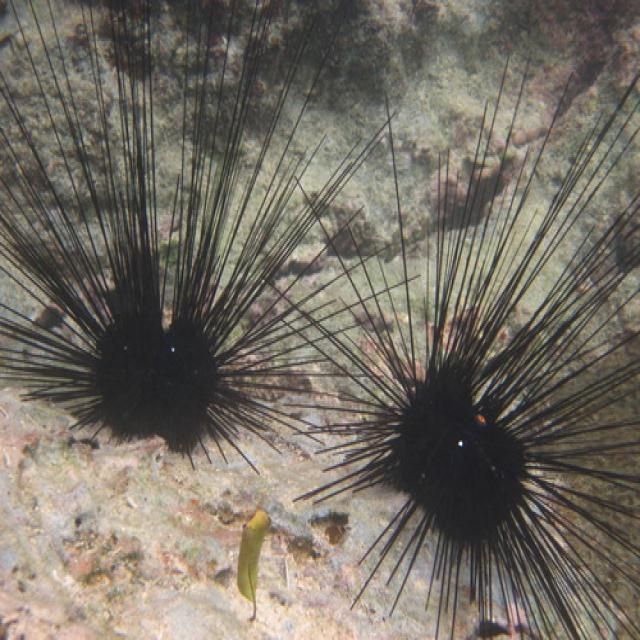Urchin: (1, 2, 418, 481), (287, 61, 637, 610)
